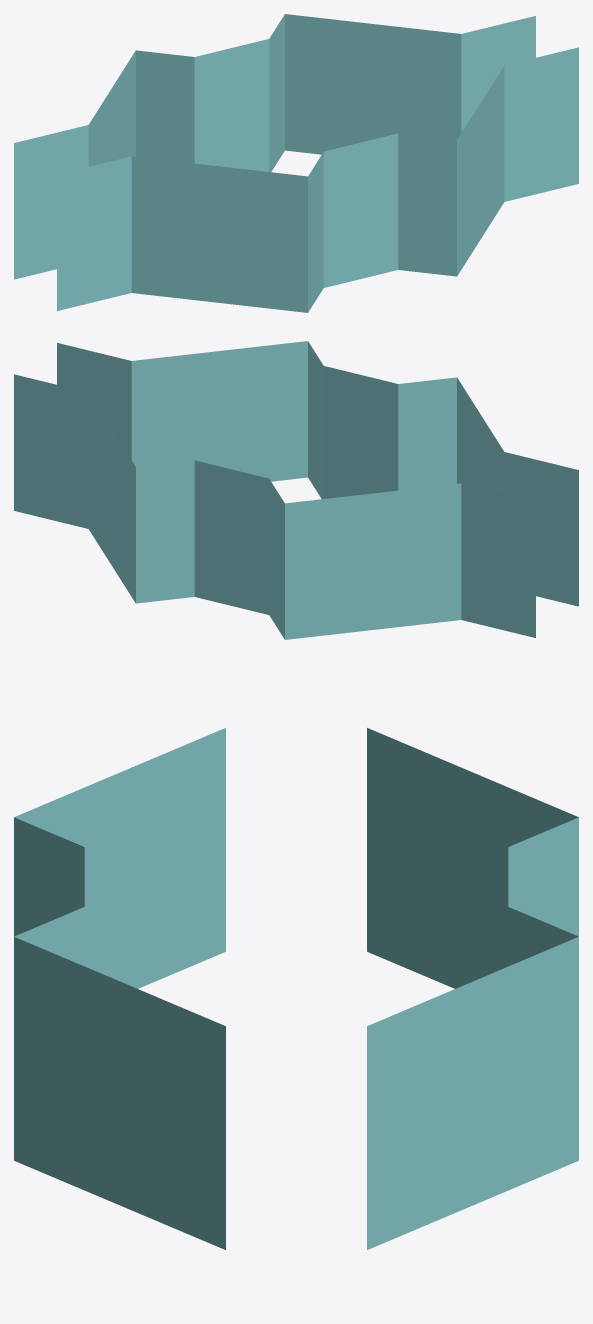
The model's file is StasisRoom_002_Walls.fbx.
3 views of the same model, one above another, from view 1: azimuth 30°, elevation 25°; view 2: azimuth 150°, elevation 25°; view 3: azimuth 270°, elevation 25° (orthographic). The views are drawn at different scales.
Parts seen in each view (by area): view 1: StasisRoom_002_Walls; view 2: StasisRoom_002_Walls; view 3: StasisRoom_002_Walls.
Part boxes in pixels (<box>): StasisRoom_002_Walls: <box>14,14,578,312</box>; StasisRoom_002_Walls: <box>14,341,578,639</box>; StasisRoom_002_Walls: <box>14,728,578,1249</box>.
Size of the model in its own units: 2800 by 700 by 1600.
